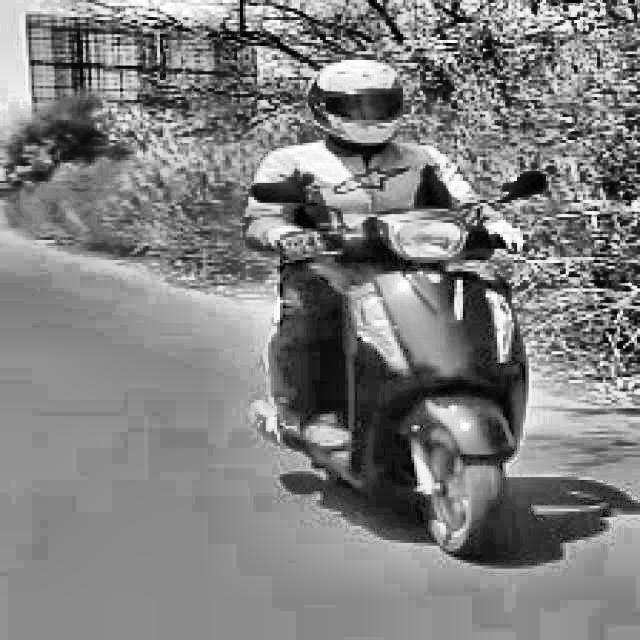motorcycle: (232, 167, 571, 559)
